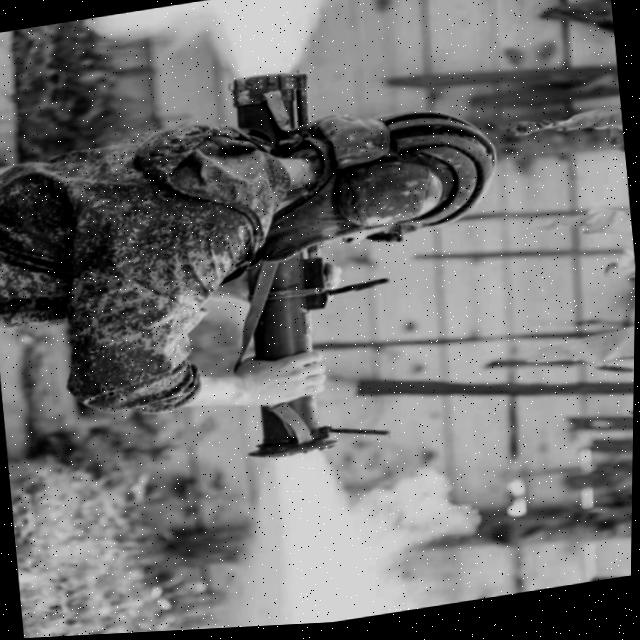rocket: (189, 59, 366, 472)
